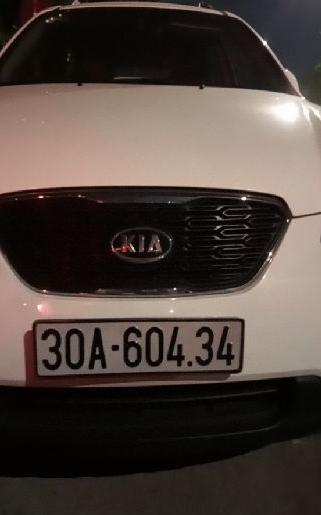Plate-iWeP: (31, 316, 248, 376)
